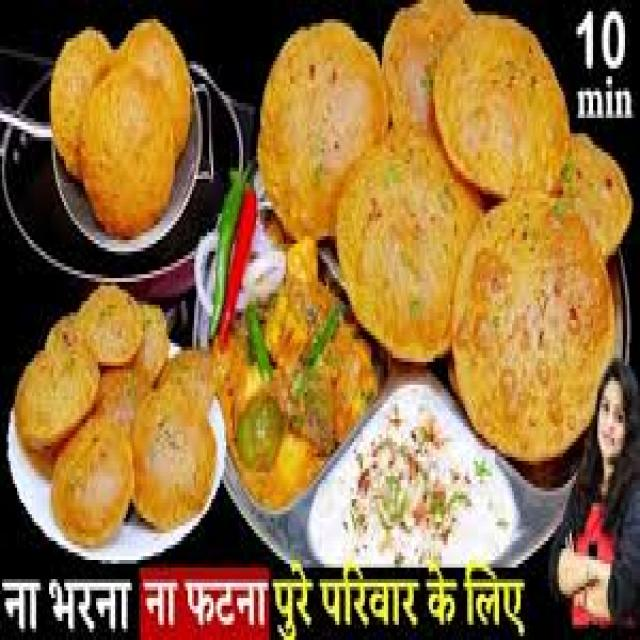CURD: (307, 380, 520, 566)
CURRY: (220, 232, 384, 512)
POORI: (256, 0, 635, 463), (16, 283, 234, 547), (49, 17, 190, 236)
